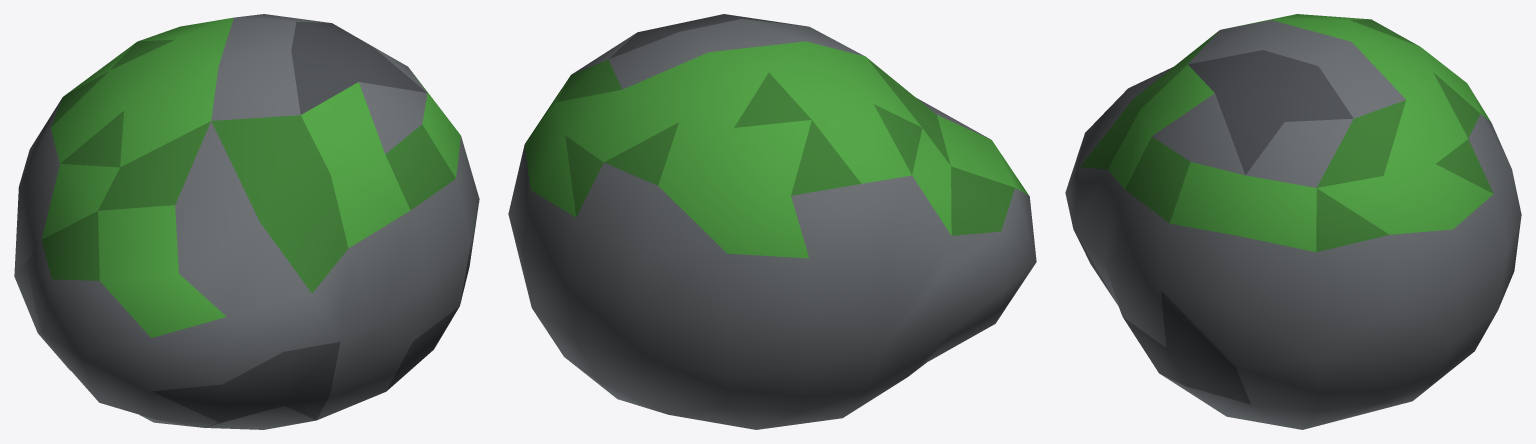
Rendered from mossy_rock_b.glb.
The picture shows the model from 3 angles, left to right: view 1: azimuth 30°, elevation 25°; view 2: azimuth 150°, elevation 25°; view 3: azimuth 270°, elevation 25°; orthographic projection. The views are drawn at different scales.
Parts seen in each view (by area): view 1: mossy_rock_b; view 2: mossy_rock_b; view 3: mossy_rock_b.
Boxes of the visible parts, box(x1,y1,x2,y2) form: mossy_rock_b: box(14, 14, 479, 429); mossy_rock_b: box(508, 14, 1036, 429); mossy_rock_b: box(1065, 14, 1521, 429).
Bounding box in the file's own units: 2.06 × 1.55 × 1.9.
